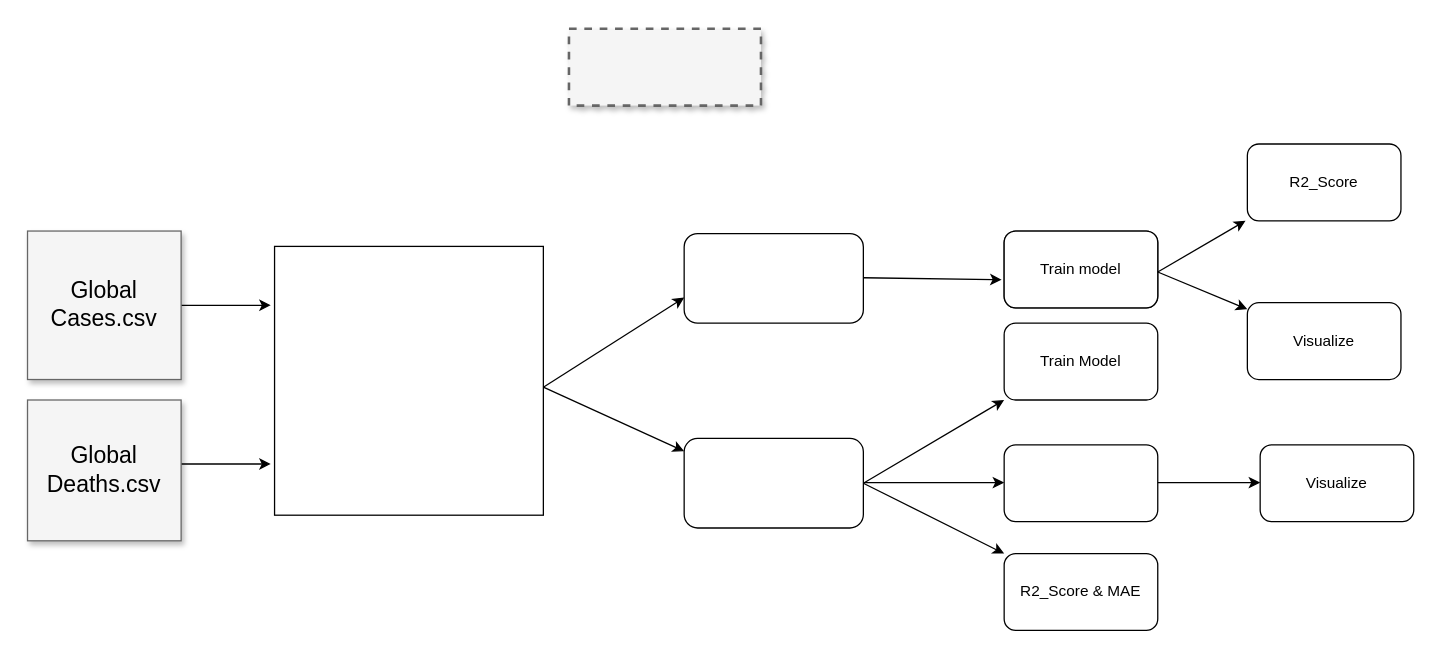
Some shapes in this 1436 by 653 pixel diagram are drawn without their labels. The shapes that lost their labels are listed below. From the top down, each one's centre as x and y in pixels, then its label:
[665,68]: Software Control
[773,277]: Gradient Regressor, Decision Tree Classifier & Linear Regrression
[408,380]: Preprocessing
[773,482]: Fbprophet Model
[1080,483]: Forecast
